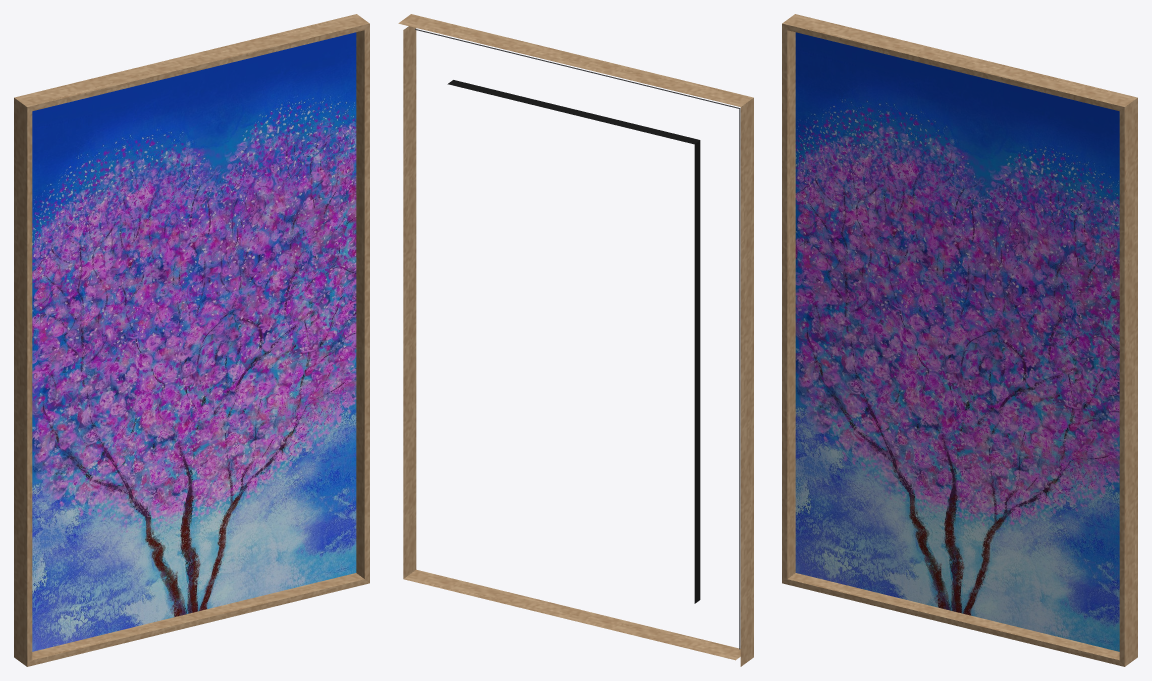
The model's file is os002_moyen_caisse-chene.glb.
3 renders of one model, left to right at view 1: azimuth 30°, elevation 25°; view 2: azimuth 150°, elevation 25°; view 3: azimuth 330°, elevation 25°, orthographic.
Parts seen in each view (by area): view 1: os002_moyen_caisse-chene; view 2: os002_moyen_caisse-chene; view 3: os002_moyen_caisse-chene.
Boxes of the visible parts, x1,y1,x2,y2 form: os002_moyen_caisse-chene: [14, 14, 369, 666]; os002_moyen_caisse-chene: [398, 14, 753, 666]; os002_moyen_caisse-chene: [782, 14, 1137, 666].
Size of the model in its own units: 0.5304 by 0.828 by 0.035.
4 materials, 2 textured.
